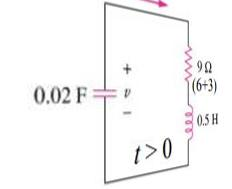resistor: (176, 39, 193, 85)
